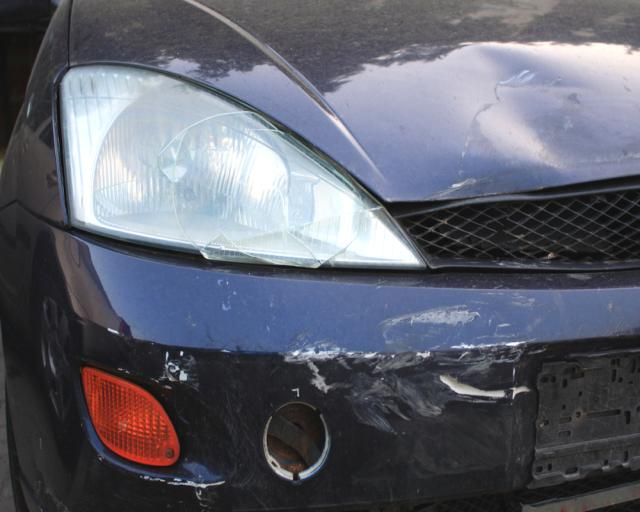dent: (461, 43, 594, 172)
lamp broken: (59, 63, 427, 270)
scratch: (286, 290, 547, 435), (141, 474, 228, 509), (156, 349, 206, 391)
